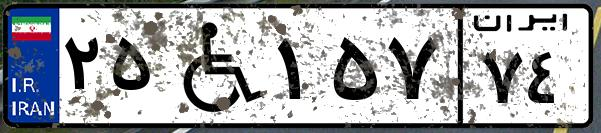1: (270, 28, 330, 110)
2: (57, 26, 110, 100)
4: (525, 38, 570, 115)
5: (330, 28, 385, 110), (110, 28, 158, 98)
7: (385, 28, 445, 110), (475, 38, 525, 113)
ژ (معلولین و جانبازان): (158, 12, 270, 120)
